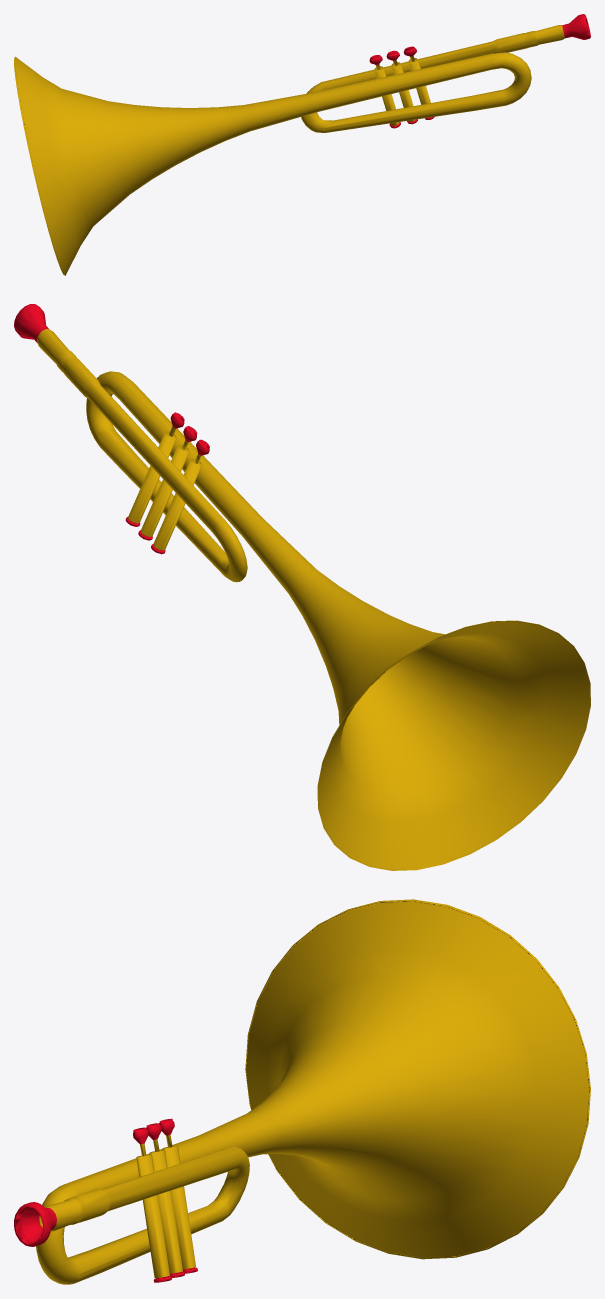
The model's file is trumpetelowPoly1.fbx.
3 renders of one model, top to bottom at view 1: azimuth 30°, elevation 25°; view 2: azimuth 150°, elevation 25°; view 3: azimuth 270°, elevation 25°, orthographic. The views are drawn at different scales.
Parts seen in each view (by area): view 1: Trumpet; view 2: Trumpet; view 3: Trumpet.
Boxes of the visible parts, x1,y1,x2,y2 form: Trumpet: (14,14,590,275); Trumpet: (14,304,590,870); Trumpet: (14,899,590,1284).
Bounding box in the file's own units: 79.1 × 35.74 × 49.2.
